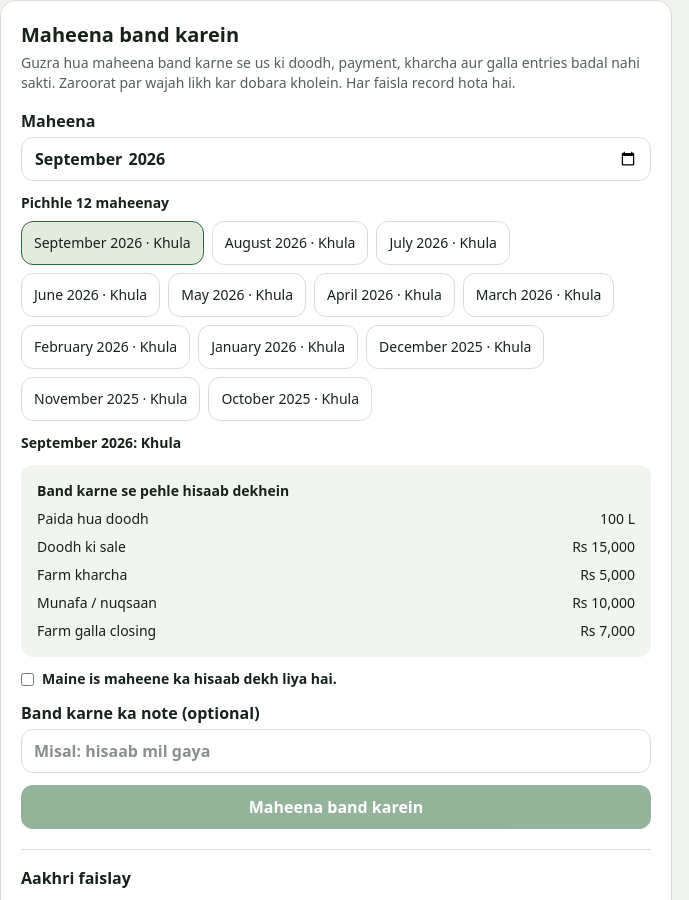
refuses to close when the server summary changed after review
Check: the text "Paida hua doodh" is shown, box [37,509,149,528]
Click the checkbox labelled "Maine is maheene ka hisaab dekh liya hai." at (28, 680), box [21,673,34,686]
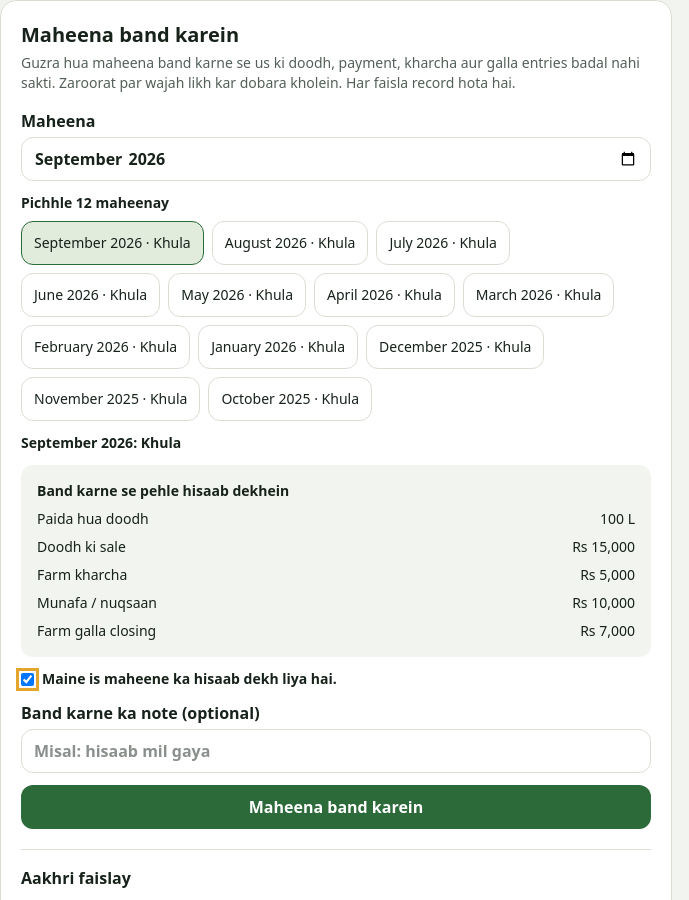
Click the button "Maheena band karein" at (336, 807), box [21,785,651,829]
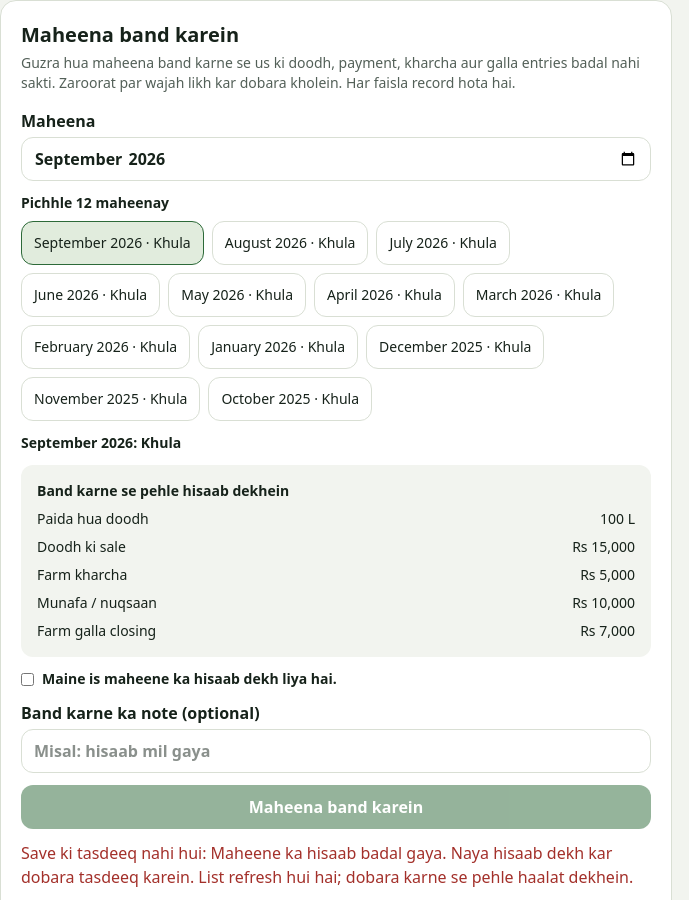
Check: the message shows "hisaab badal gaya", box [21,842,612,888]
